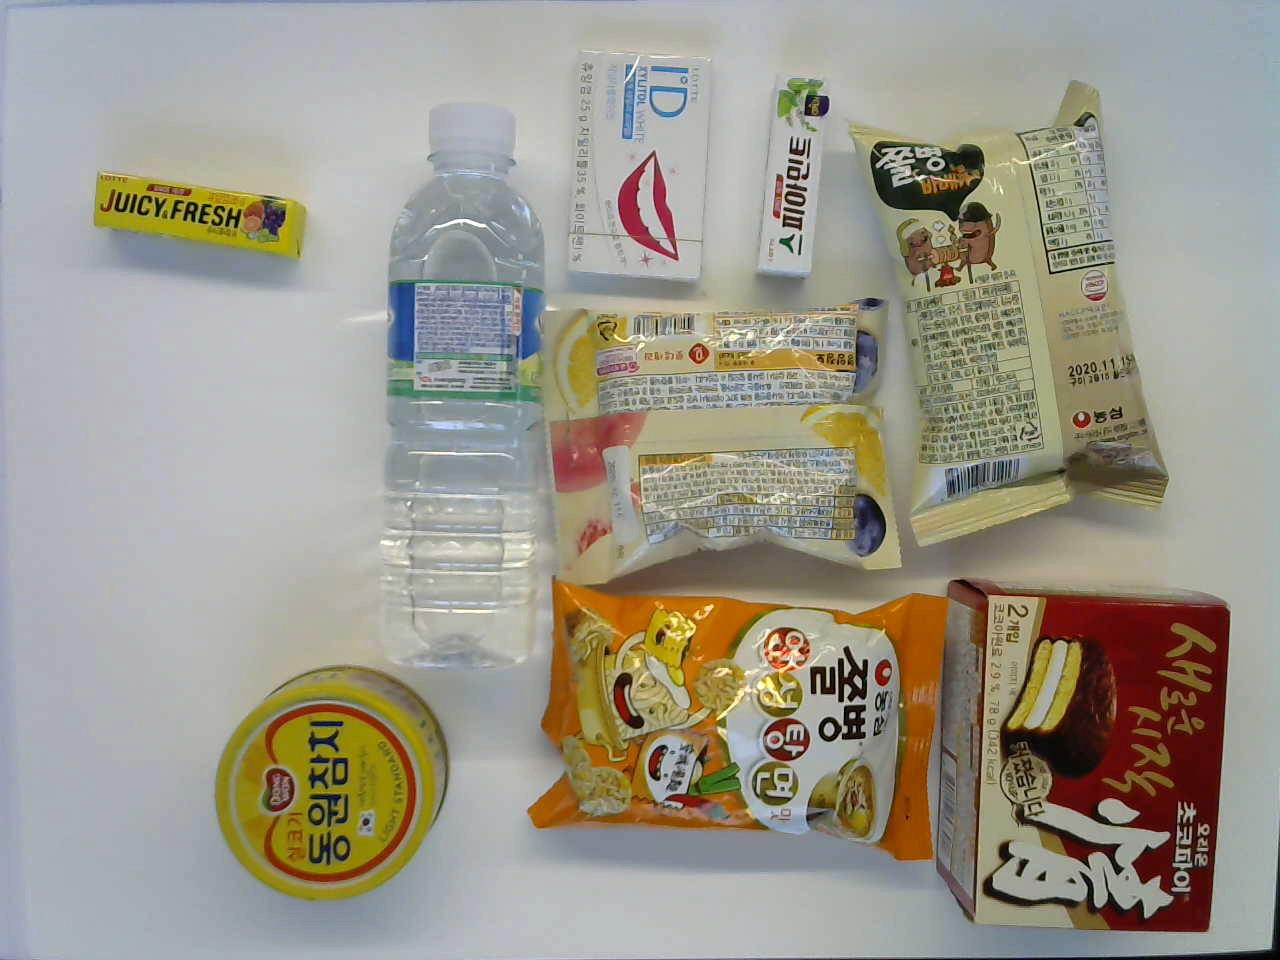ID_gum: (561, 44, 716, 292)
chocopie: (934, 576, 1247, 939), (547, 297, 910, 576)
jjolbyung_noodle: (521, 585, 963, 861)
jjolbyung_ori: (845, 75, 1172, 556)
juicyfresh: (88, 163, 311, 270)
samdasu: (363, 99, 563, 659)
spearmint: (756, 67, 840, 285)
tuna: (197, 657, 455, 907)
